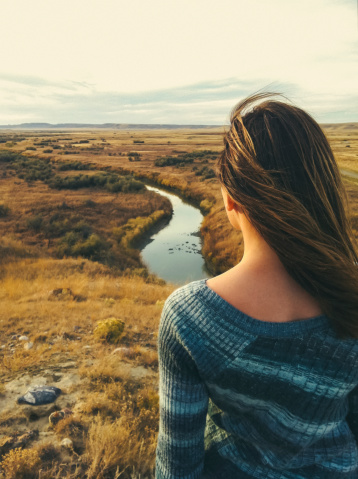em pe: (146, 88, 358, 479)
